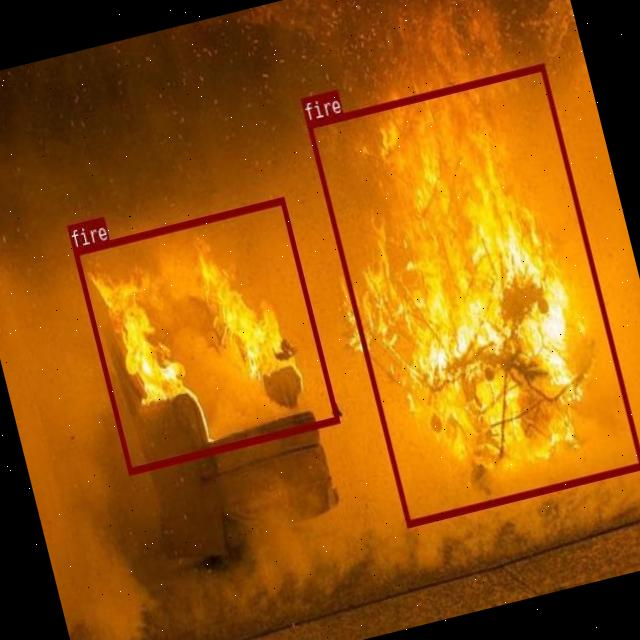fire: (305, 61, 640, 525), (72, 195, 338, 472)
